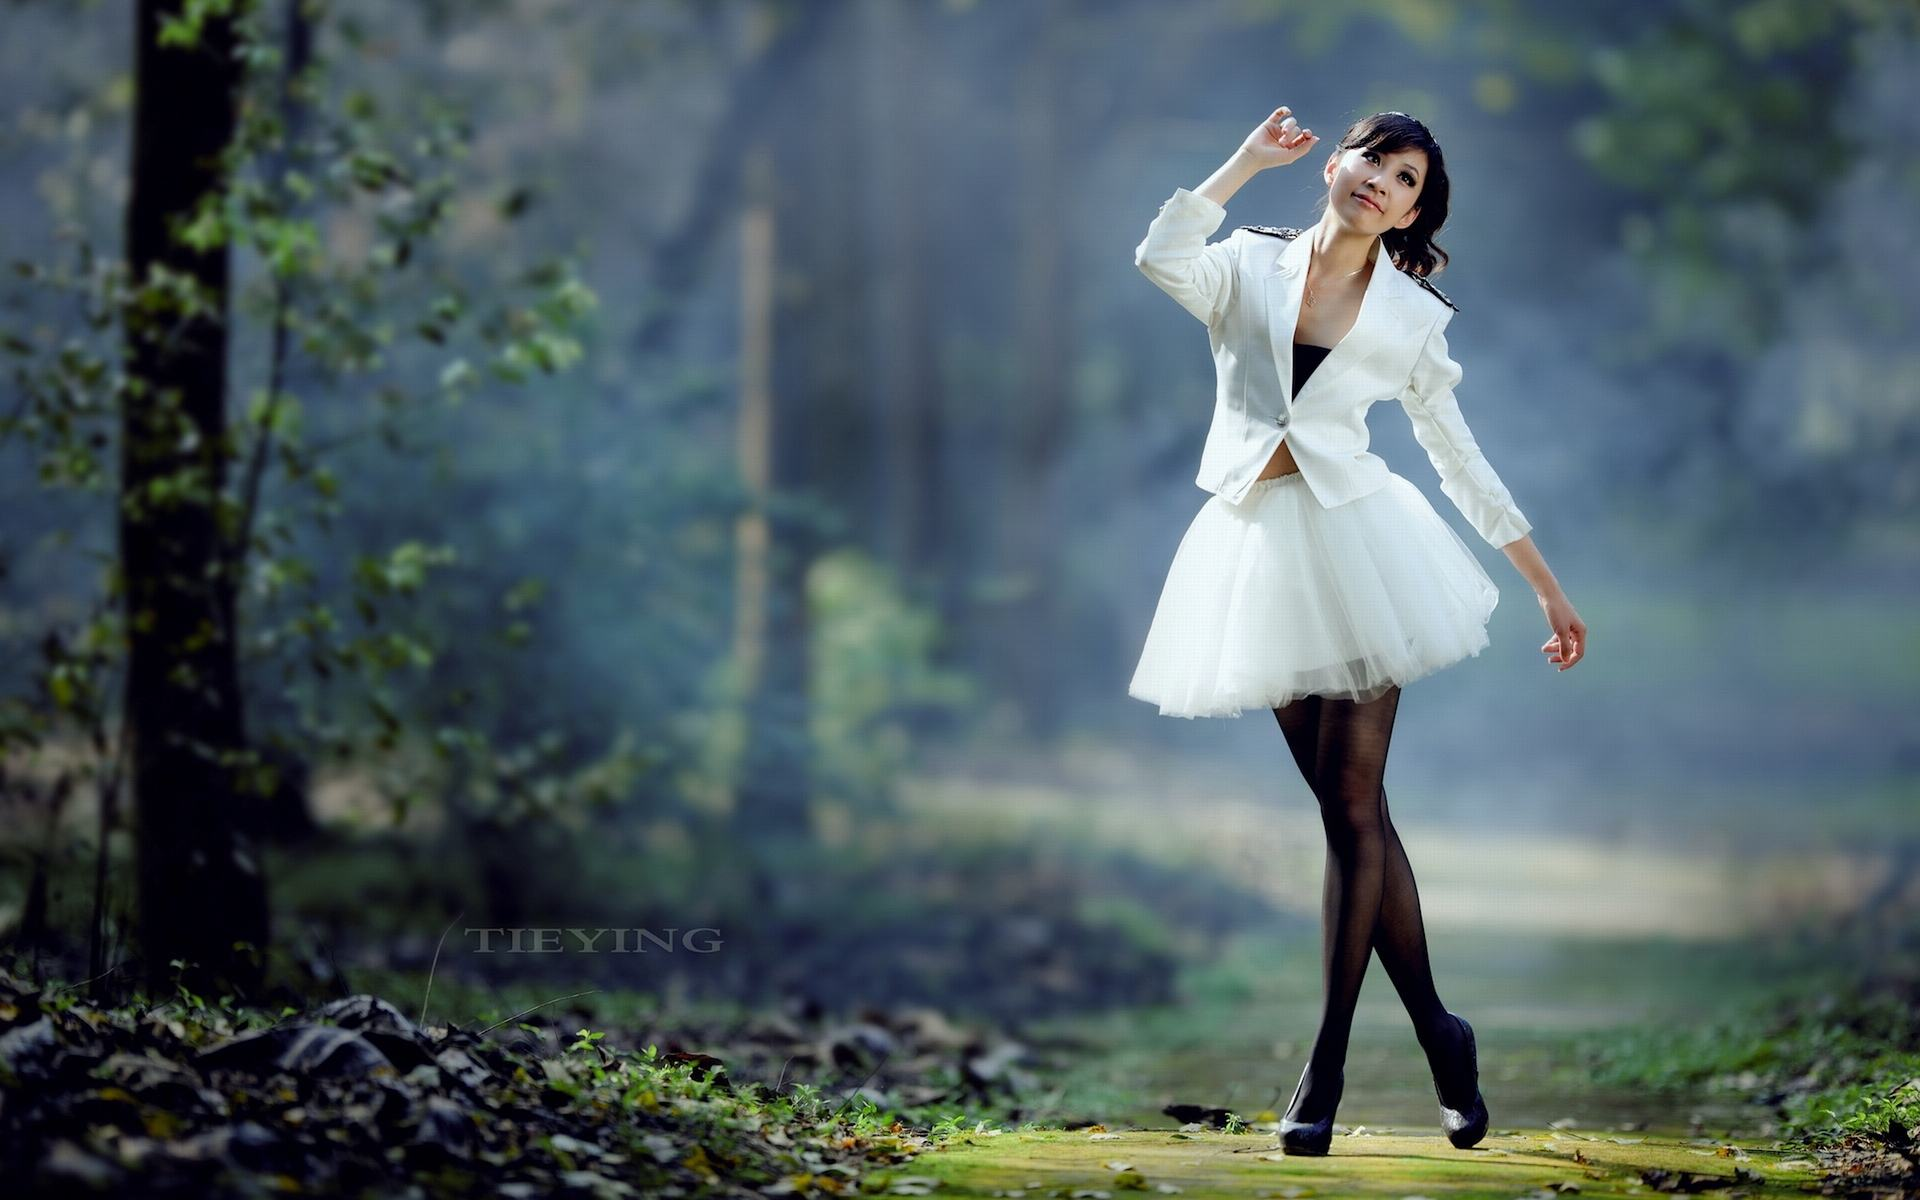person: (908, 56, 1570, 1092)
